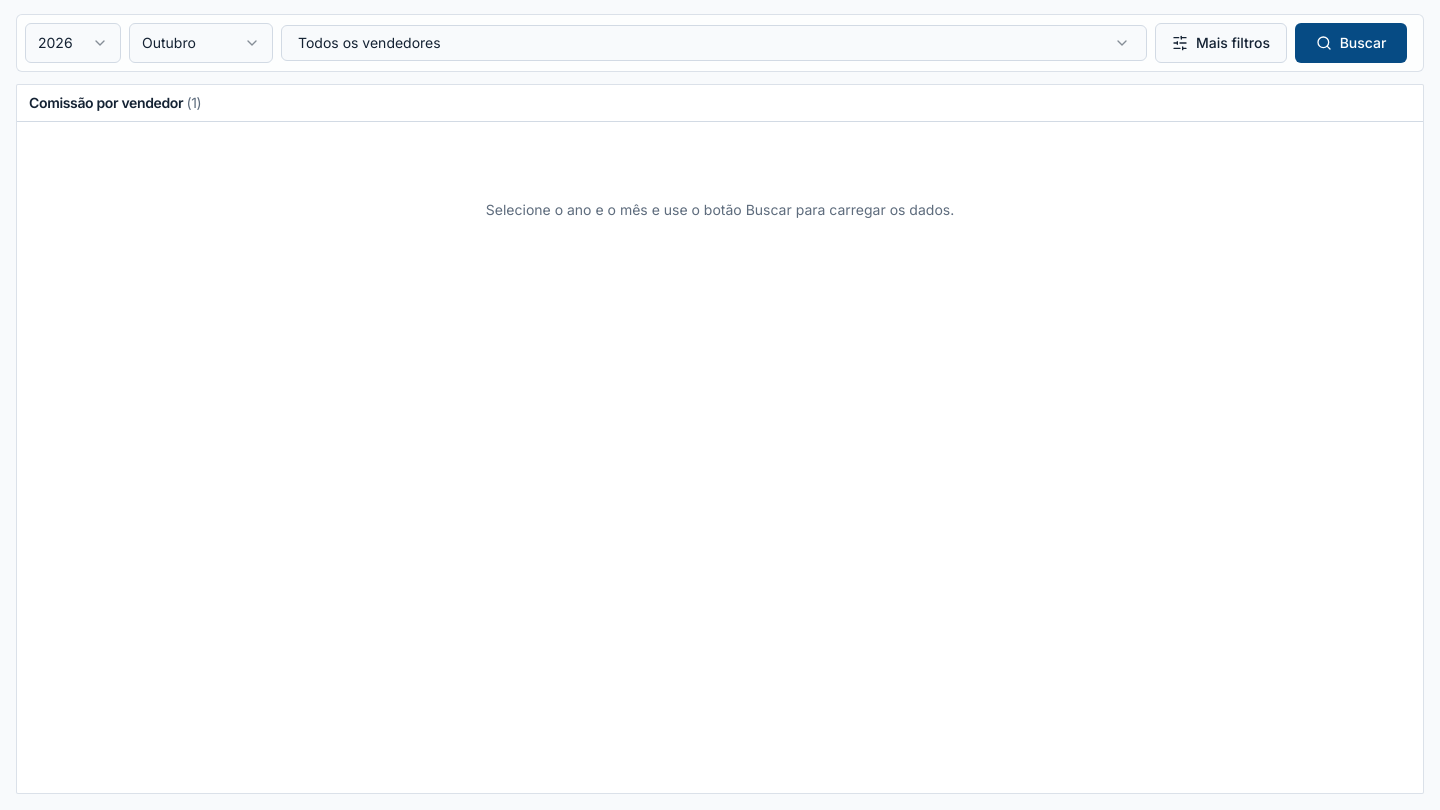
Test: ComissaoPage › calcula o valor total como faturado mais pedidos em aberto
Click the button "Buscar" at x=1351, y=43, box [1295,23,1407,63]
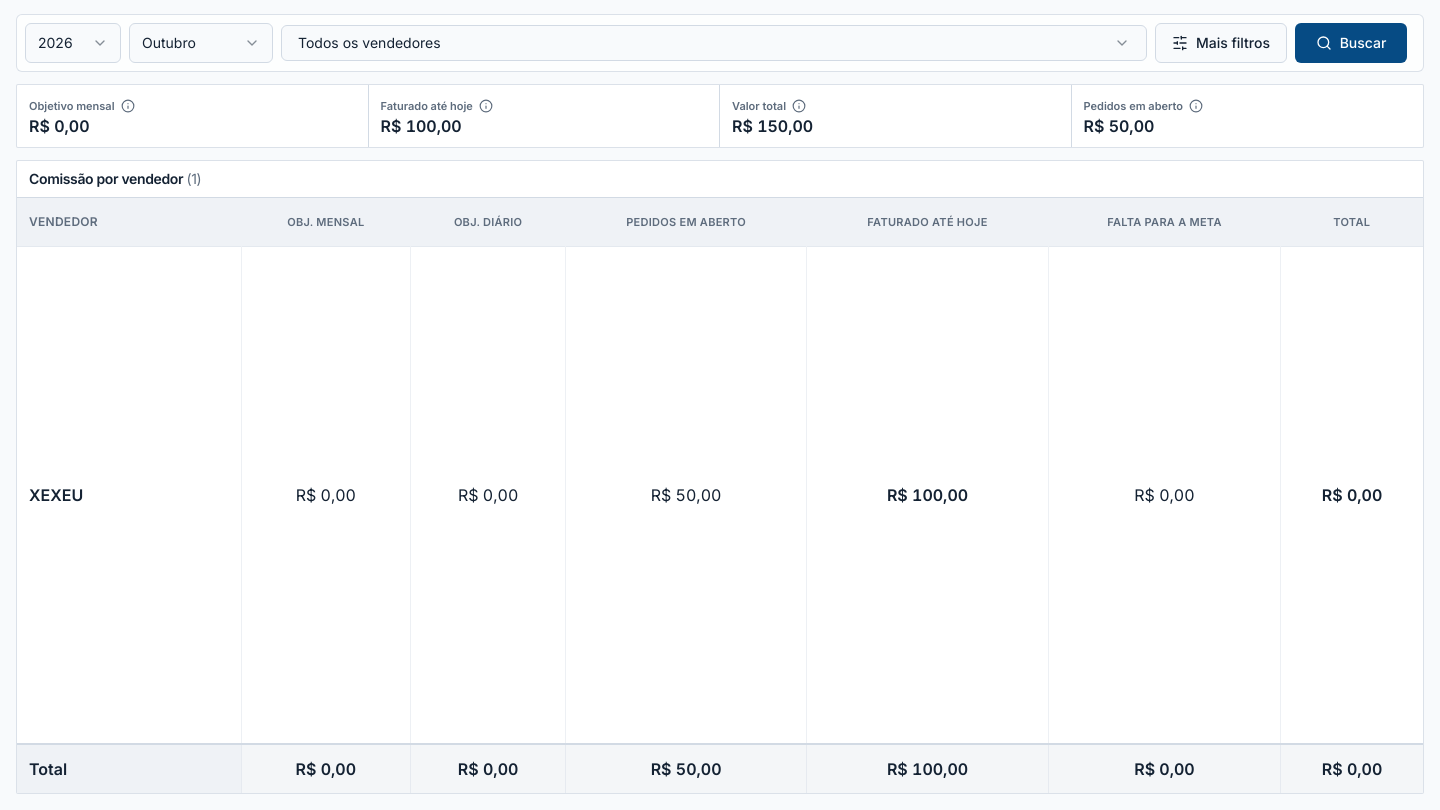
Check: the text "Valor total" shows "R$ 150,00", box [732,116,813,136]
